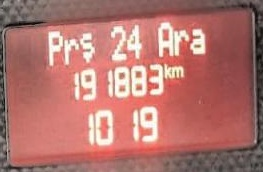0: (94, 107, 113, 146)
1: (131, 105, 139, 145), (86, 109, 93, 146), (105, 65, 112, 100), (72, 68, 79, 101)
2: (109, 22, 126, 60)
3: (148, 61, 163, 94)
4: (126, 19, 141, 60)
8: (131, 62, 146, 96), (114, 64, 129, 98)
9: (139, 105, 158, 143), (80, 65, 95, 100)
X: (156, 19, 172, 57), (47, 27, 62, 66), (189, 26, 206, 55), (79, 31, 94, 62), (63, 35, 78, 65), (173, 27, 188, 56), (171, 64, 184, 78), (164, 61, 171, 79)
